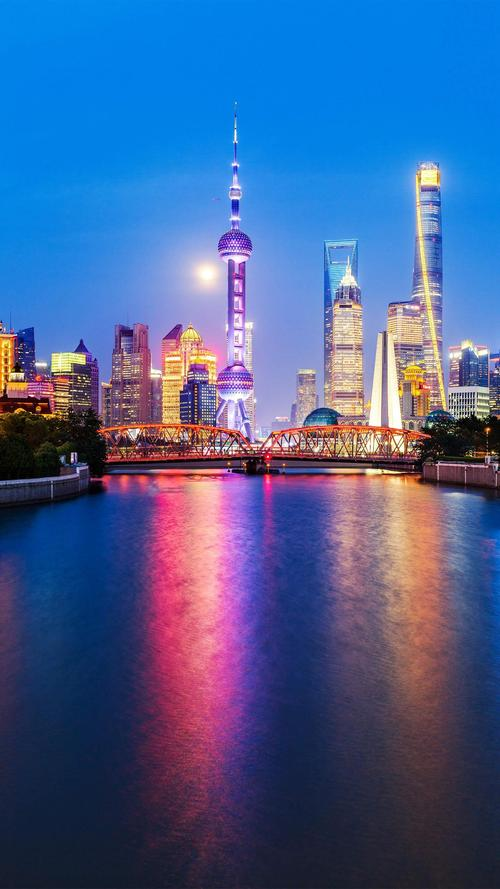buildings: (184, 136, 277, 460), (407, 146, 484, 463), (301, 216, 380, 463), (380, 288, 434, 483), (95, 301, 159, 441)
